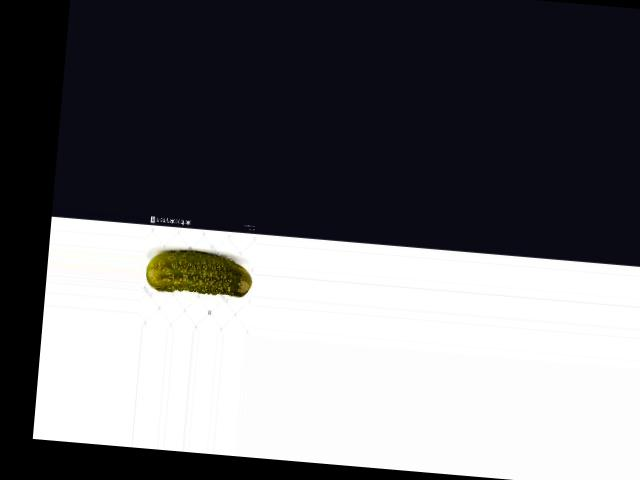cucumber: (145, 246, 255, 298)
